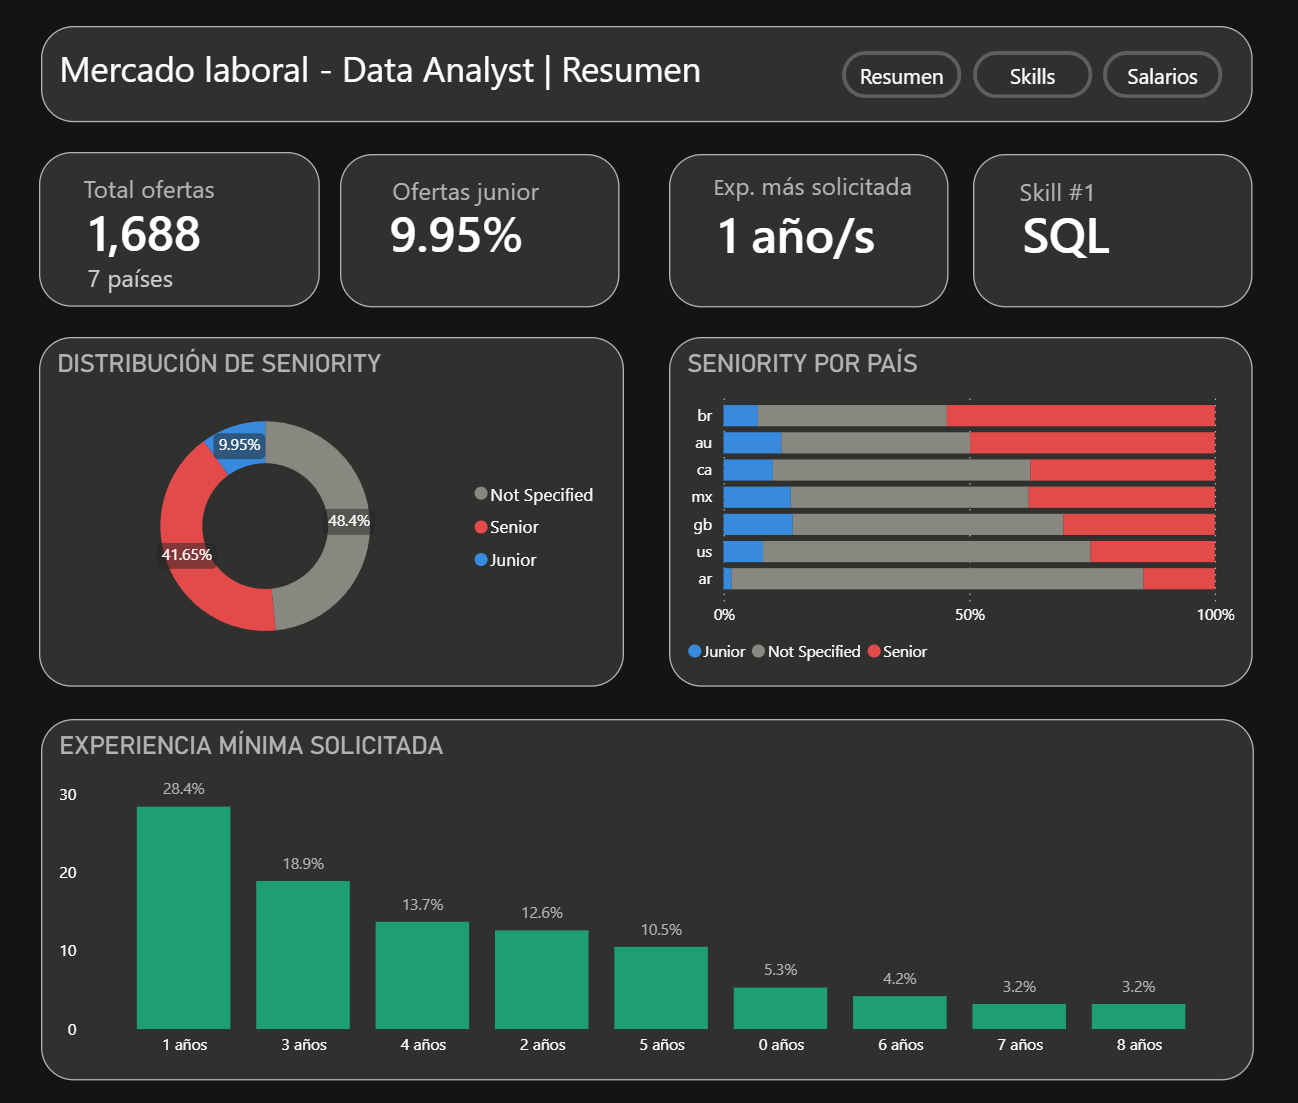

What the dashboard file says about the page in this screenshot:
{"tool":"powerbi","page":{"name":"Resumen","canvas":[1000,850],"ordinal":0},"visuals":[{"type":"cardVisual","title":"Total ofertas","fields":{"Data":["Sum(2_seniority_distribution.count)"]},"box":[31.1,117.8,215.6,118.8],"z":0,"group":"g1"},{"type":"cardVisual","title":"Total ofertas","fields":{"Data":["Sum(2_seniority_distribution.pct)"]},"box":[262.2,118.9,215,117.8],"z":0,"group":"g2"},{"type":"cardVisual","title":"Total ofertas","fields":{"Data":["Count(3_experience_distribution.exp_years)"]},"box":[515.6,118.9,215,118],"z":0,"group":"g3"},{"type":"cardVisual","title":"Total ofertas","fields":{"Data":["1_skills_aggregated.Skill #1"]},"box":[748.9,118.9,215,118],"z":0,"group":"g4"},{"type":"donutChart","title":"DISTRIBUCIÓN DE SENIORITY","fields":{"Y":["Sum(2_seniority_distribution.count)"],"Category":["2_seniority_distribution.seniority"]},"box":[31.1,260,450,268.9],"z":0},{"type":"textbox","box":[544.5,125,183.7,45.6],"z":1000,"group":"g3"},{"type":"textbox","box":[60.6,128.2,176.3,38.9],"z":1000,"group":"g1"},{"type":"textbox","box":[297.3,128.7,168.9,52.2],"z":1000,"group":"g2"},{"type":"textbox","box":[779.9,129.9,184,41.3],"z":1000,"group":"g4"},{"type":"hundredPercentStackedBarChart","title":"SENIORITY POR PAÍS","fields":{"Category":["6_jobs_clean.country"],"Y":["CountNonNull(6_jobs_clean.seniority)"],"Series":["6_jobs_clean.seniority"]},"box":[515.6,260,448.9,268.9],"z":1000},{"type":"textbox","box":[63.6,196.6,109.3,53.4],"z":2000,"group":"g1"},{"type":"clusteredColumnChart","title":"EXPERIENCIA MÍNIMA SOLICITADA","fields":{"Y":["Sum(3_experience_distribution.pct)"],"Category":["3_experience_distribution.experience_label"]},"box":[32.6,553.6,932.5,277.5],"z":2000},{"type":"group","id":"g1","title":"Grupo 1","box":[31.1,117.8,215.6,132.2],"z":3000},{"type":"group","id":"g2","title":"Grupo 2","box":[262.2,118.9,215.6,117.8],"z":4000},{"type":"group","id":"g3","title":"Grupo 2","box":[515.6,118.9,215.6,117.8],"z":5000},{"type":"group","id":"g4","title":"Grupo 2","box":[748.9,118.9,215.6,117.8],"z":6000},{"type":"textbox","box":[32.2,21.1,932.2,74.4],"z":7000},{"type":"actionButton","title":"Resumen","box":[648.2,40,91.8,36.4],"z":7001},{"type":"actionButton","title":"Resumen","box":[749.1,40,91.8,36.4],"z":7002},{"type":"actionButton","title":"Resumen","box":[849.1,40,91.8,36.4],"z":7003}]}

Visuals, with their boxes in screenshot pixels (x1, y1, x2, y2), scaled from the page's 1000x850 canvas onto the 1298x1103 screenshot:
"Total ofertas" cardVisual: <bbox>40, 153, 320, 307</bbox>
"Total ofertas" cardVisual: <bbox>340, 154, 619, 307</bbox>
"Total ofertas" cardVisual: <bbox>669, 154, 948, 307</bbox>
"Total ofertas" cardVisual: <bbox>972, 154, 1251, 307</bbox>
"DISTRIBUCIÓN DE SENIORITY" donutChart: <bbox>40, 337, 624, 686</bbox>
textbox: <bbox>707, 162, 945, 221</bbox>
textbox: <bbox>79, 166, 307, 217</bbox>
textbox: <bbox>386, 167, 605, 235</bbox>
textbox: <bbox>1012, 169, 1251, 222</bbox>
"SENIORITY POR PAÍS" hundredPercentStackedBarChart: <bbox>669, 337, 1252, 686</bbox>
textbox: <bbox>83, 255, 224, 324</bbox>
"EXPERIENCIA MÍNIMA SOLICITADA" clusteredColumnChart: <bbox>42, 718, 1253, 1078</bbox>
"Grupo 1" group: <bbox>40, 153, 320, 324</bbox>
"Grupo 2" group: <bbox>340, 154, 620, 307</bbox>
"Grupo 2" group: <bbox>669, 154, 949, 307</bbox>
"Grupo 2" group: <bbox>972, 154, 1252, 307</bbox>
textbox: <bbox>42, 27, 1252, 124</bbox>
"Resumen" actionButton: <bbox>841, 52, 961, 99</bbox>
"Resumen" actionButton: <bbox>972, 52, 1091, 99</bbox>
"Resumen" actionButton: <bbox>1102, 52, 1221, 99</bbox>
